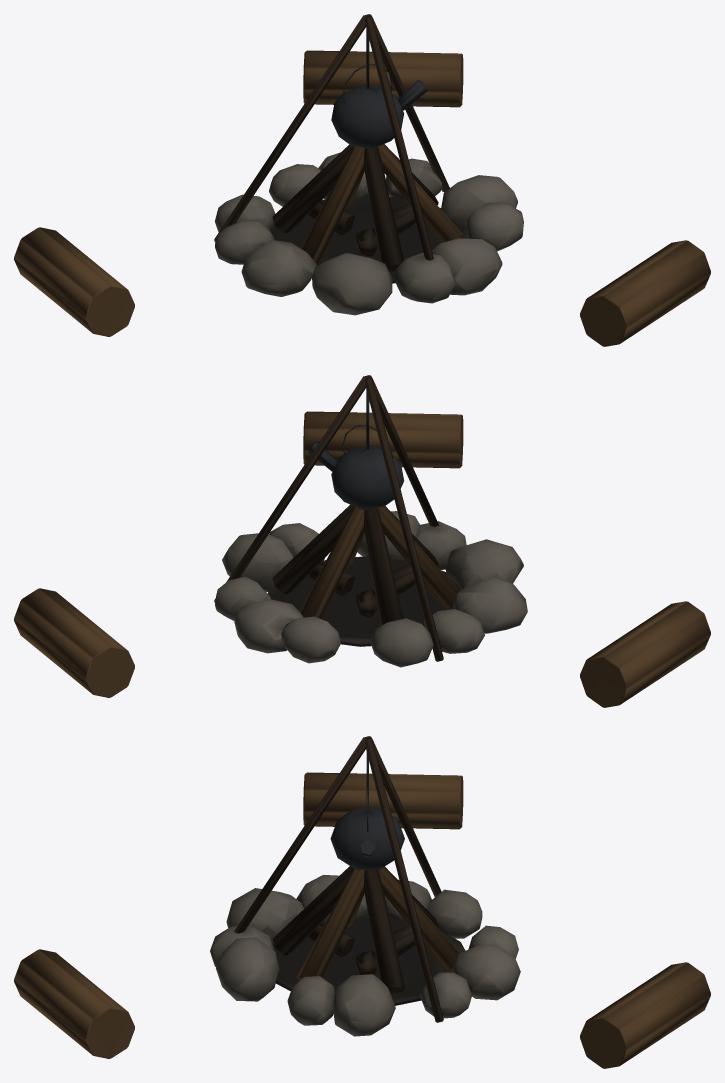
File: campfire.glb
The picture shows the model from 3 angles, top to bottom: view 1: azimuth 30°, elevation 25°; view 2: azimuth 150°, elevation 25°; view 3: azimuth 270°, elevation 25°; orthographic projection.
Visible parts, largest first — view 1: campfire; view 2: campfire; view 3: campfire.
Part boxes in pixels (x1,y1,x2,y2): campfire: (14, 14, 710, 346); campfire: (14, 375, 710, 707); campfire: (14, 736, 710, 1068).
Size of the model in its own units: 4.33 by 1.87 by 4.86.
